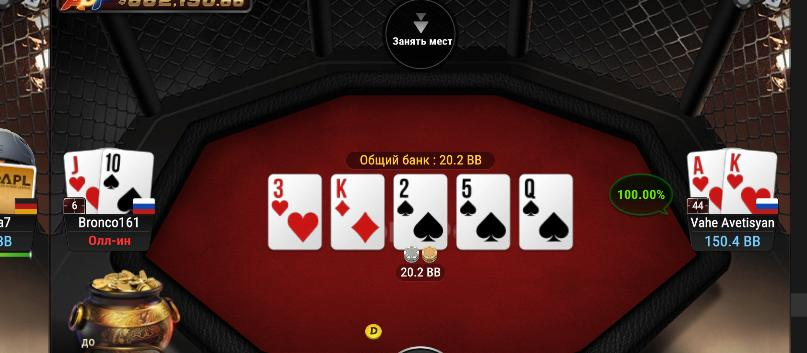10s: (101, 148, 155, 216)
2s: (395, 175, 447, 248)
3h: (269, 175, 321, 250)
5s: (457, 175, 510, 249)
Ah: (687, 152, 724, 212)
Jh: (62, 152, 101, 214)
Kd: (331, 174, 385, 250)
Kh: (725, 148, 776, 211)
Qs: (521, 176, 572, 248)
